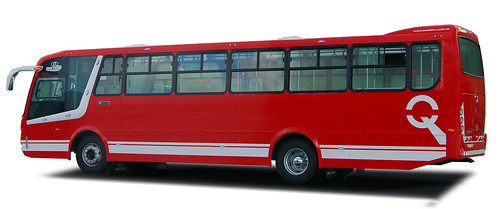bus: (18, 25, 486, 185)
